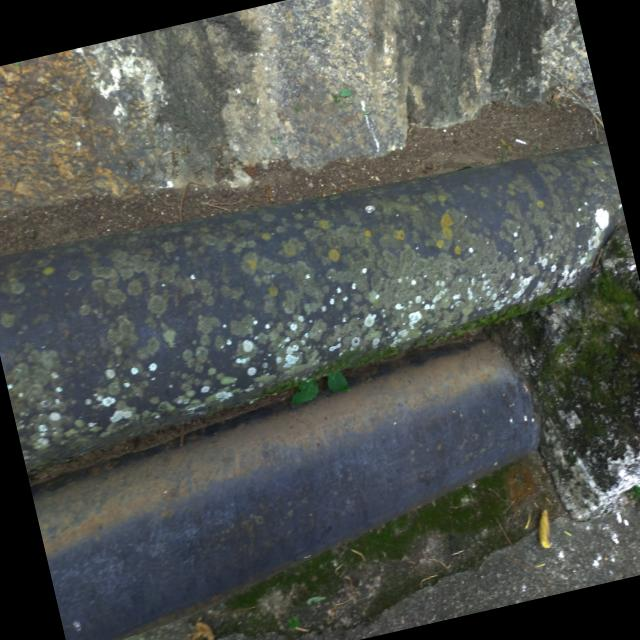gas: (0, 143, 618, 472), (32, 342, 538, 640)
